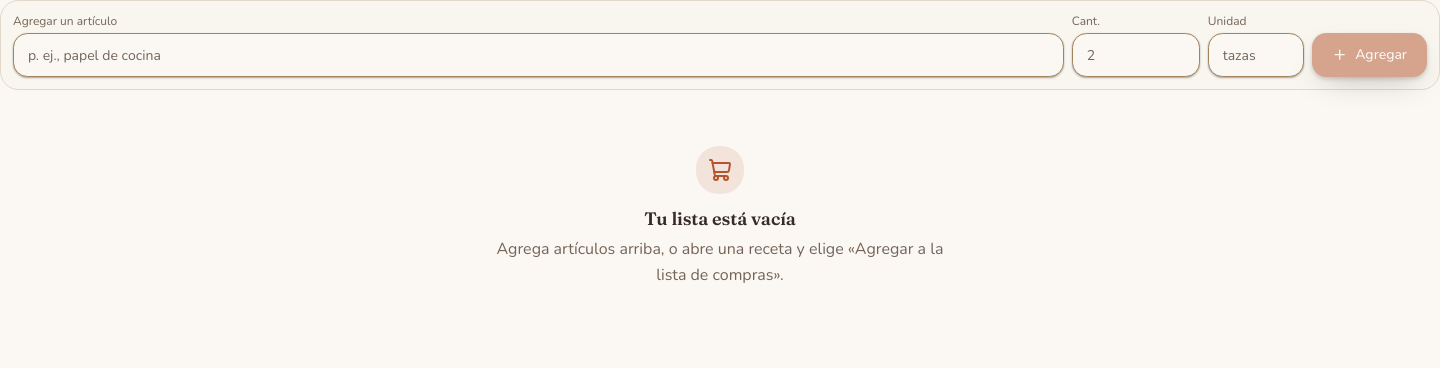
Test: ShoppingListView localization › keeps invalid quantity text and surfaces a localized error
Type "Manzanas" into the field with id "add-item". click: (538, 55)
box: [13,33,1064,77]
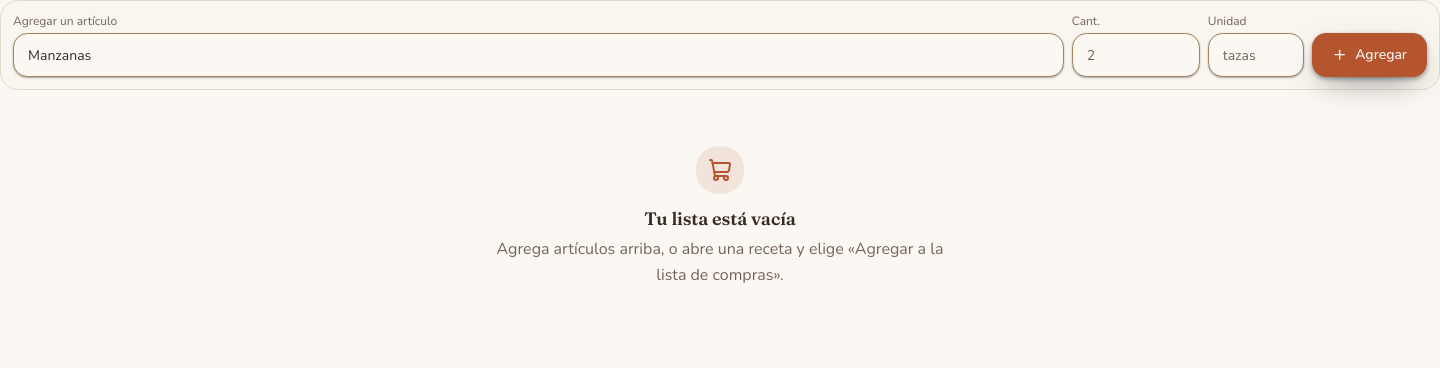
Type "uno y medio" into the field with id "add-qty". click: (1136, 55)
box: [1072,33,1200,77]
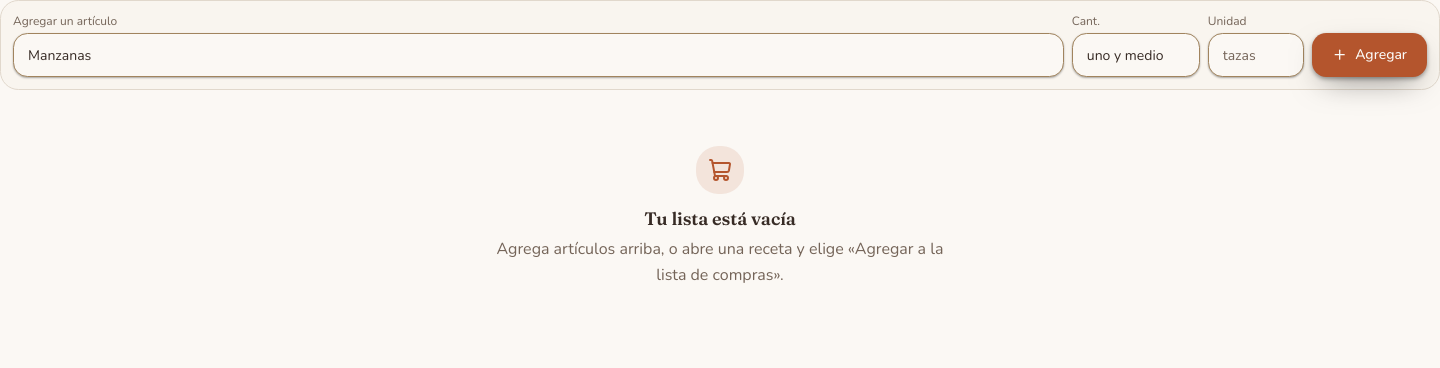
Submit the form with id "add-item", box [0,0,1439,90]
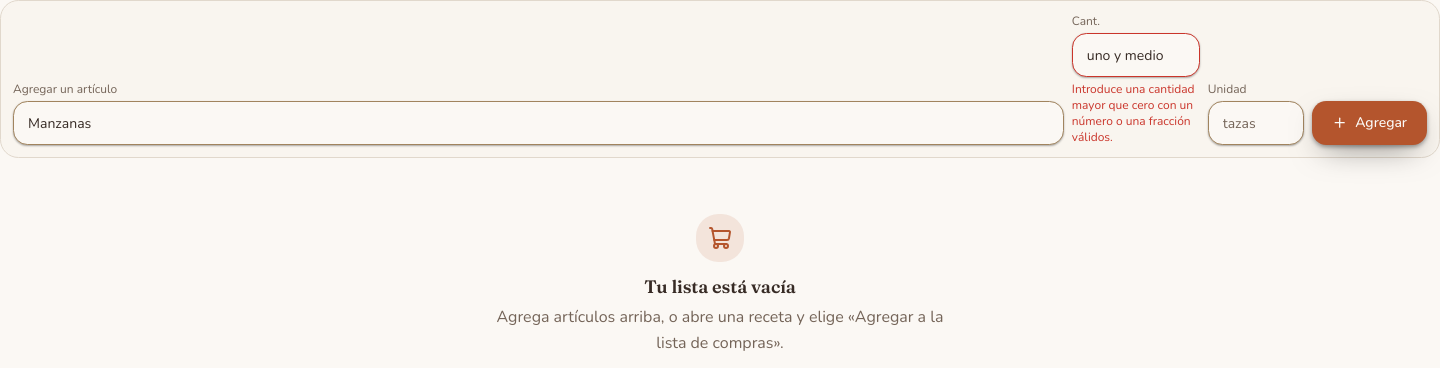
Now the message shows "Introduce una cantidad mayor que cero", box [1072,81,1195,145]
